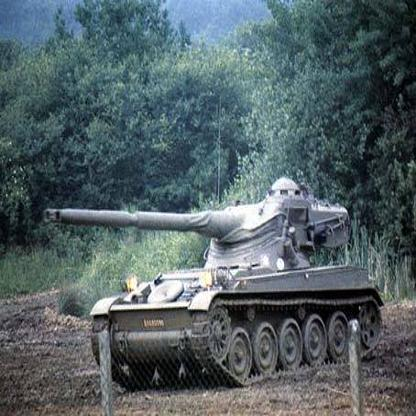Tank: (31, 175, 391, 385)
